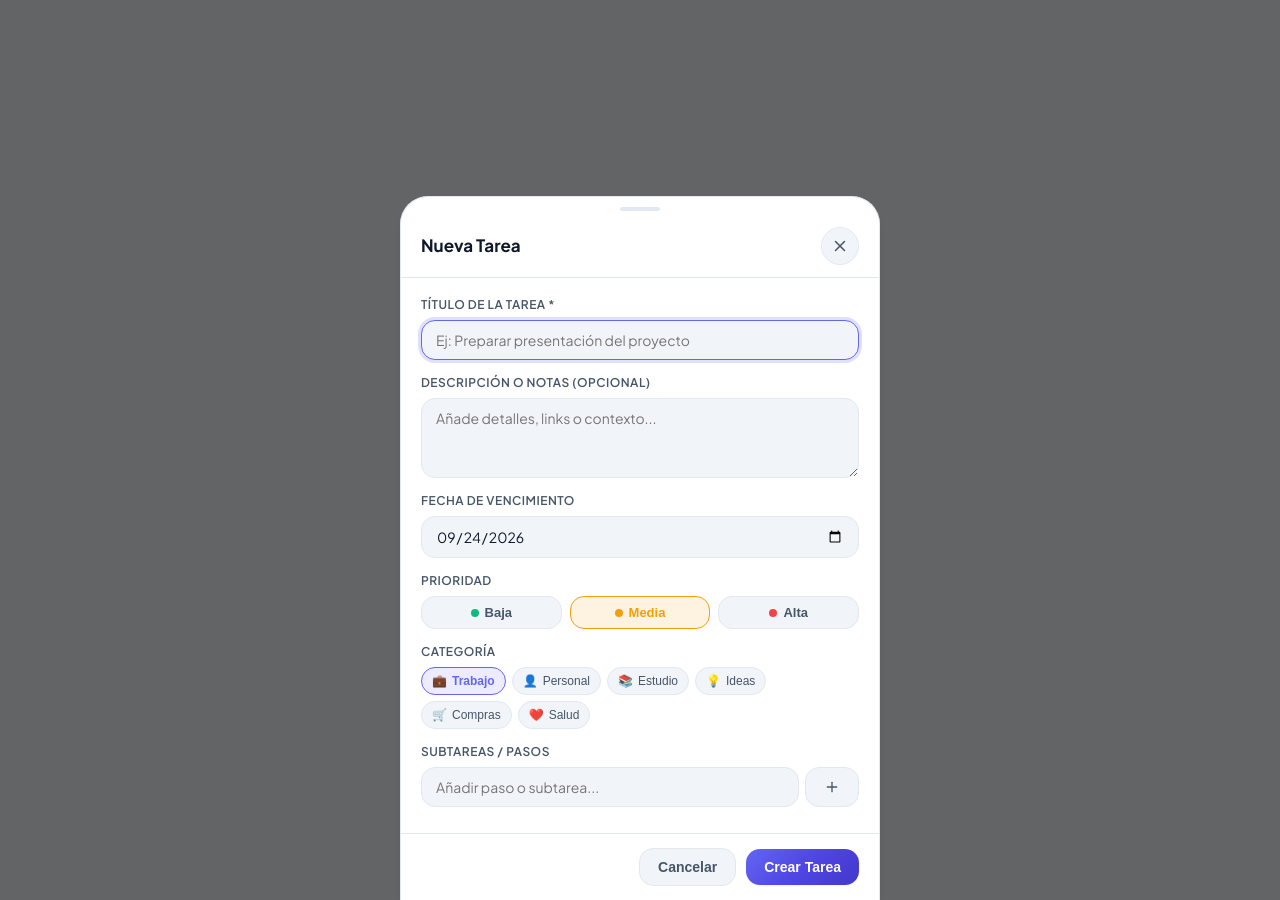
Scenario: TaskModal › agrega una subtarea al presionar Enter en el campo de subtarea
Step 1. Type "Paso por Enter" into the field with placeholder "Añadir paso o subtarea..." → (610, 787), box [421,767,799,807]
Then press Enter
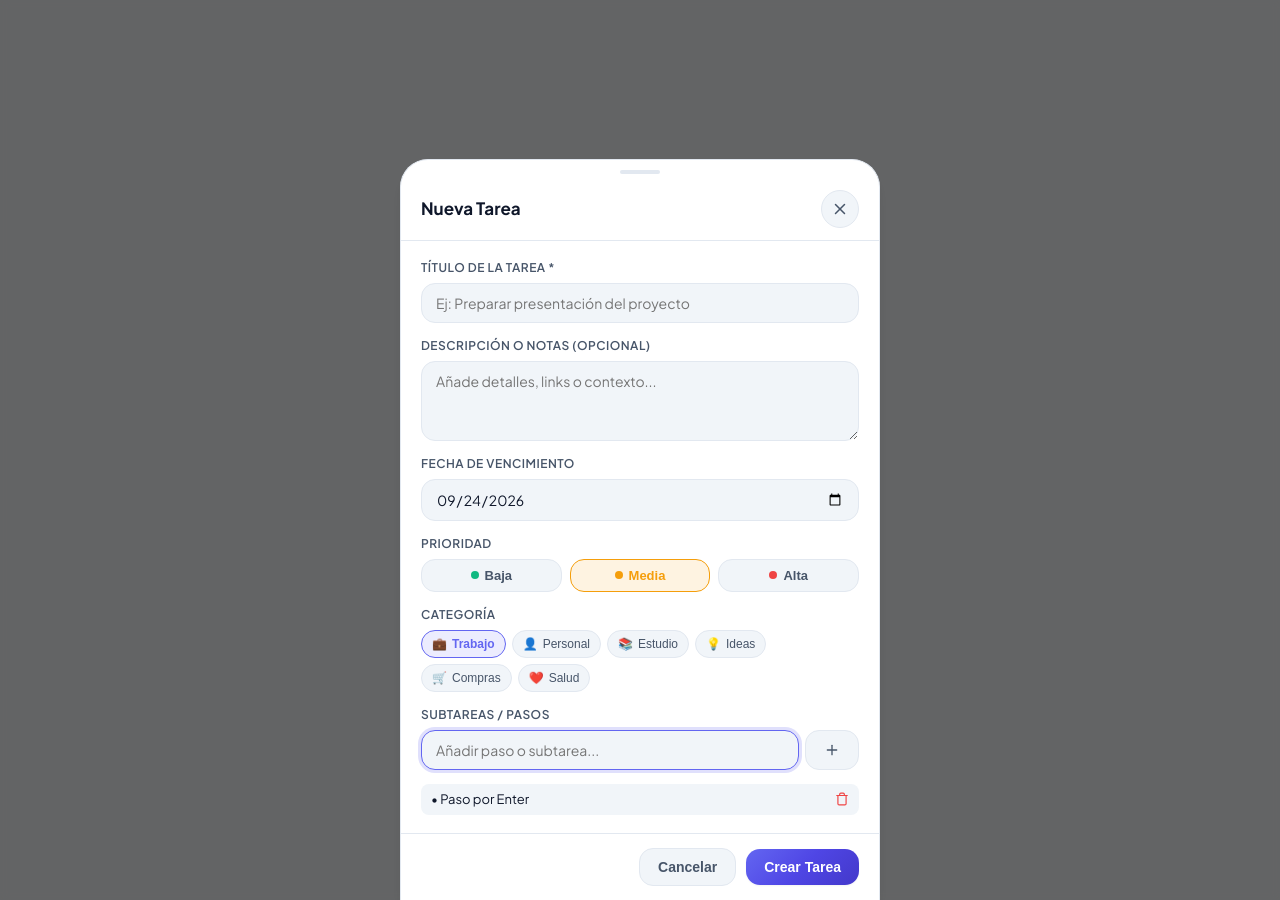
Expected: the field with placeholder "Añadir paso o subtarea..." is empty, [421,730,799,770]
Expected: the text "• Paso por Enter" is shown, [431,790,529,809]
